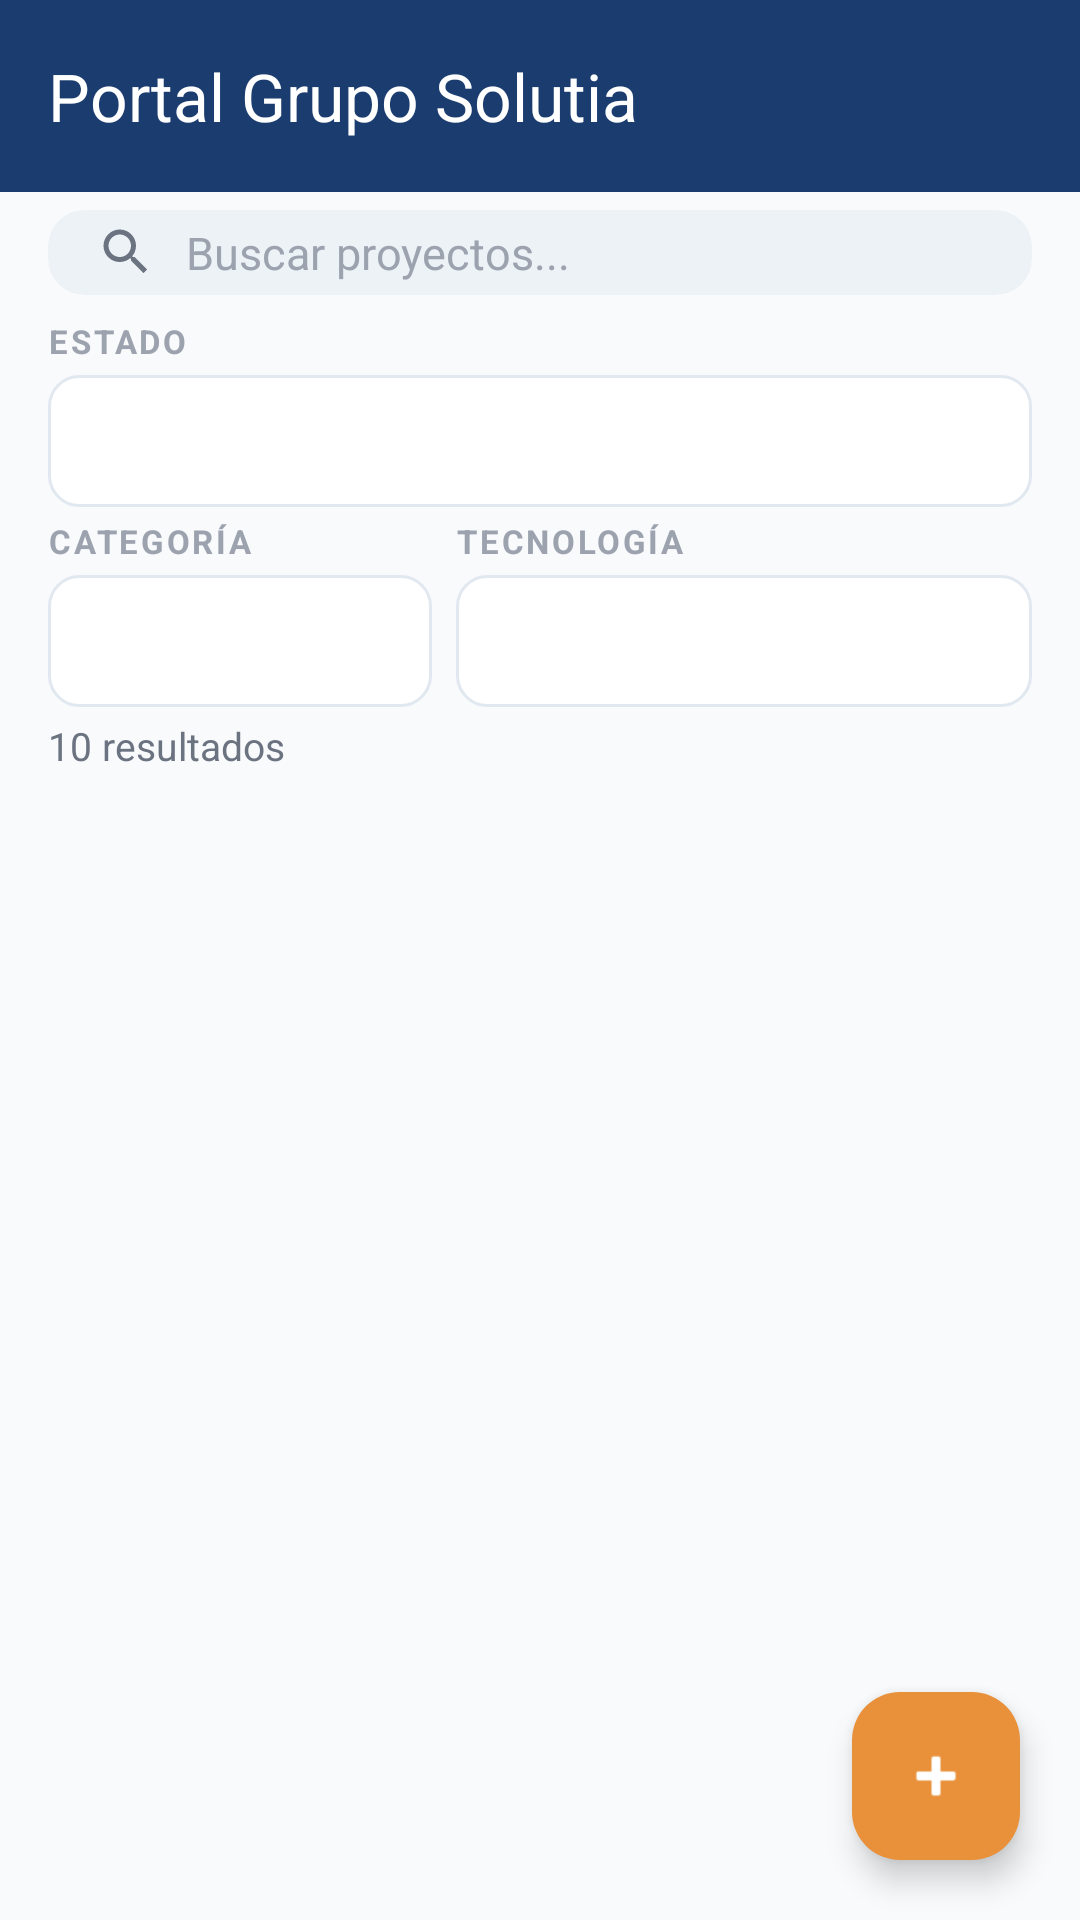

Icon bounding boxes for this 1080 x 1920 phone screenshot, format (x1, y1, x2, y2):
Añadir proyecto: (852, 1692, 1020, 1860)
search: (103, 229, 147, 273)
